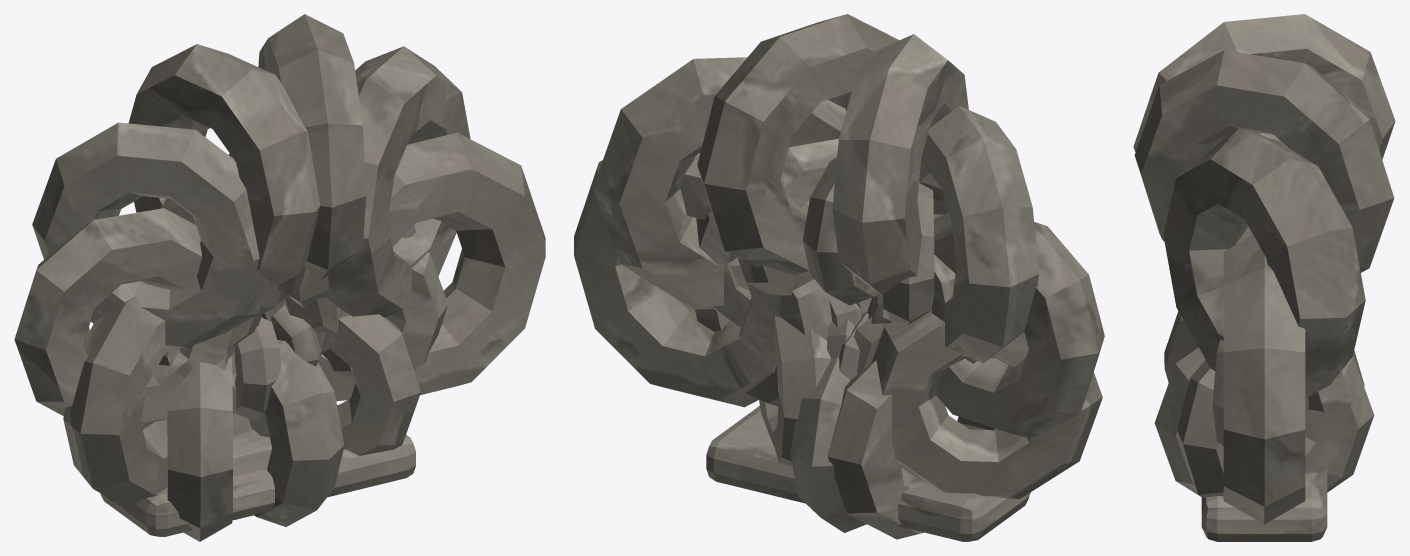
Rendered from shell_piece.glb.
The picture shows the model from 3 angles, left to right: view 1: azimuth 30°, elevation 25°; view 2: azimuth 150°, elevation 25°; view 3: azimuth 270°, elevation 25°; orthographic projection. The views are drawn at different scales.
Visible parts, largest first — view 1: model; view 2: model; view 3: model.
Part boxes in pixels (x1,y1,x2,y2): model: (14,14,545,541); model: (574,14,1104,541); model: (1133,14,1395,541).
Bounding box in the file's own units: 0.3896 × 0.3371 × 0.167.
Materials: 1 (1 with a texture image).
